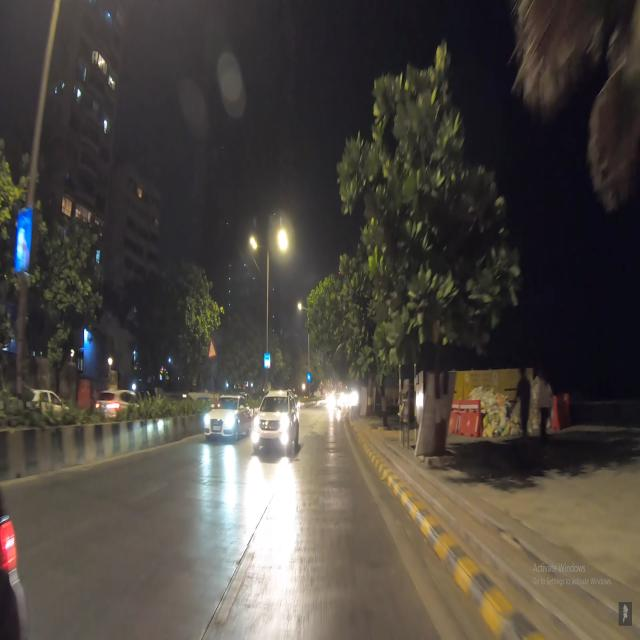headlights: (247, 412, 293, 447), (201, 405, 236, 437)
